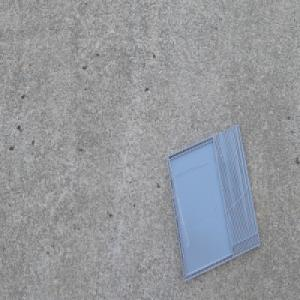PlasticPart: (165, 123, 261, 282)
